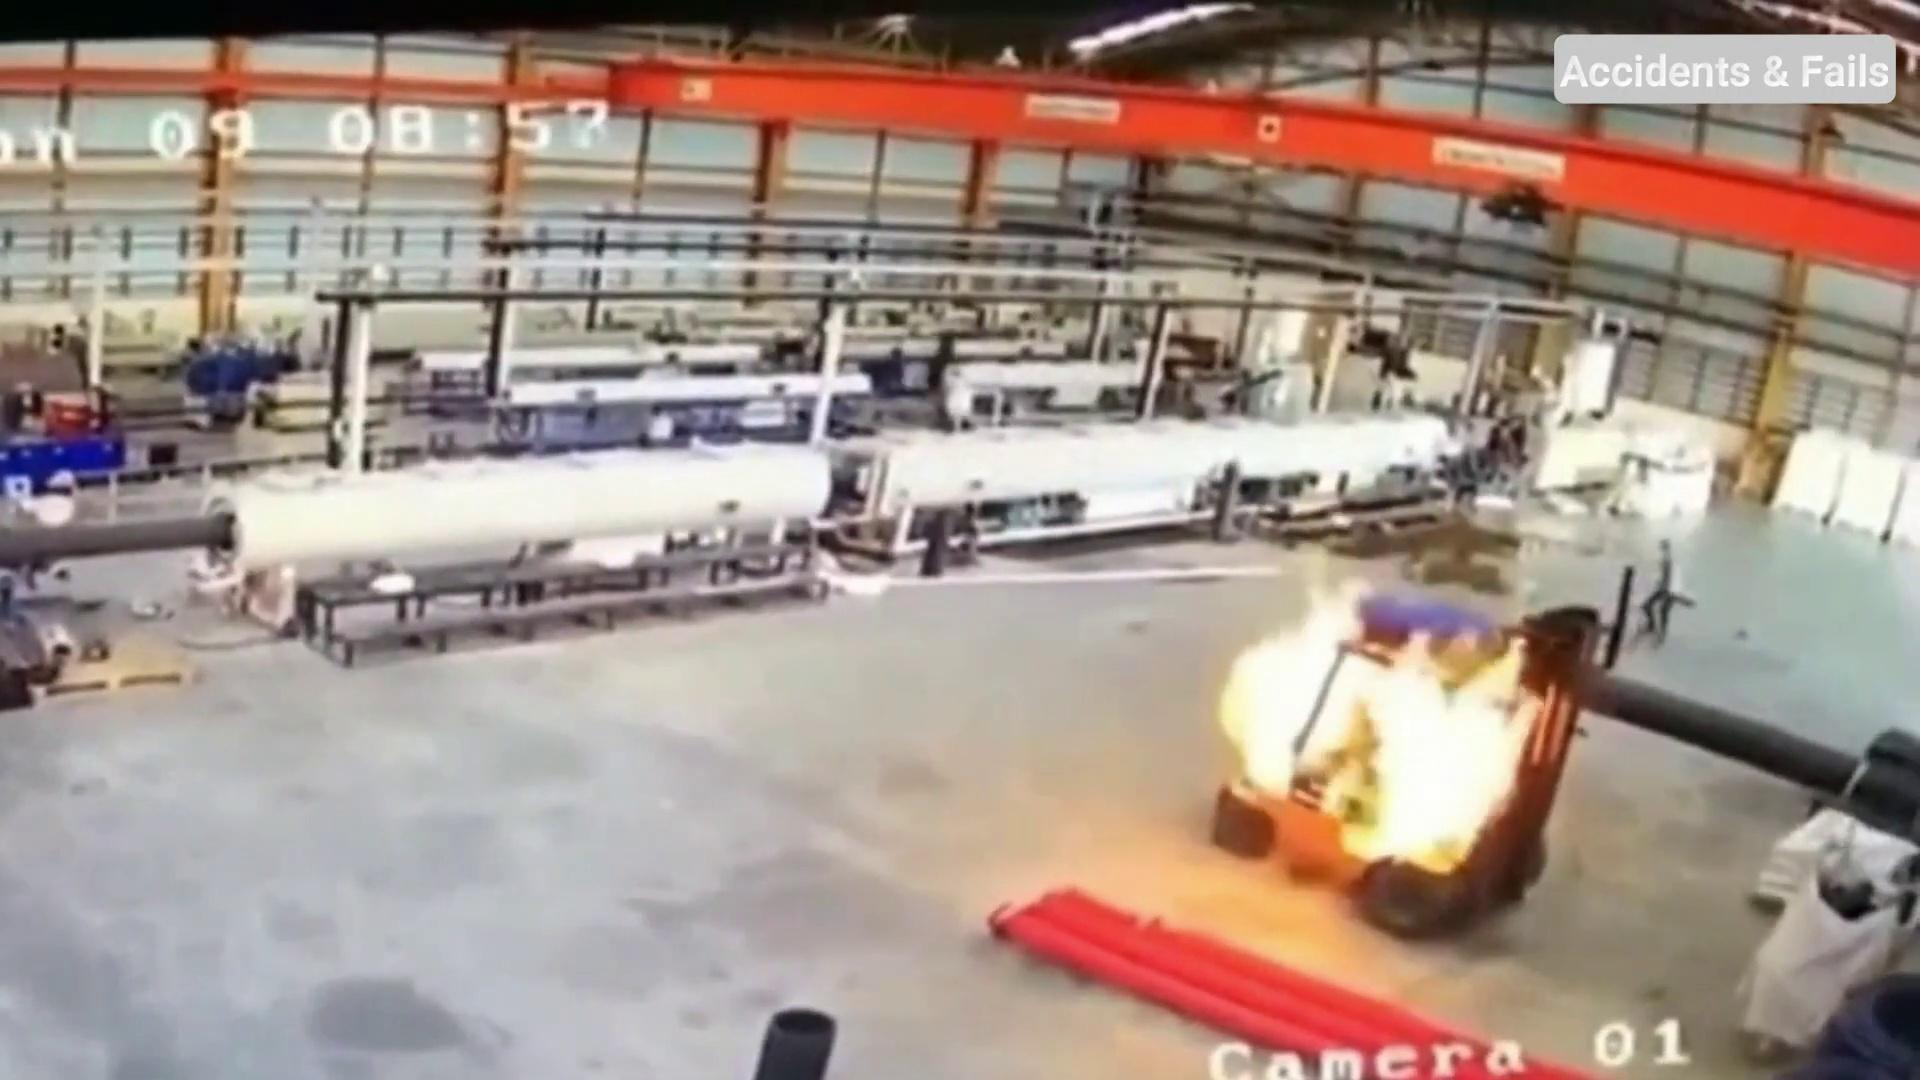fire: (1179, 434, 1727, 972)
